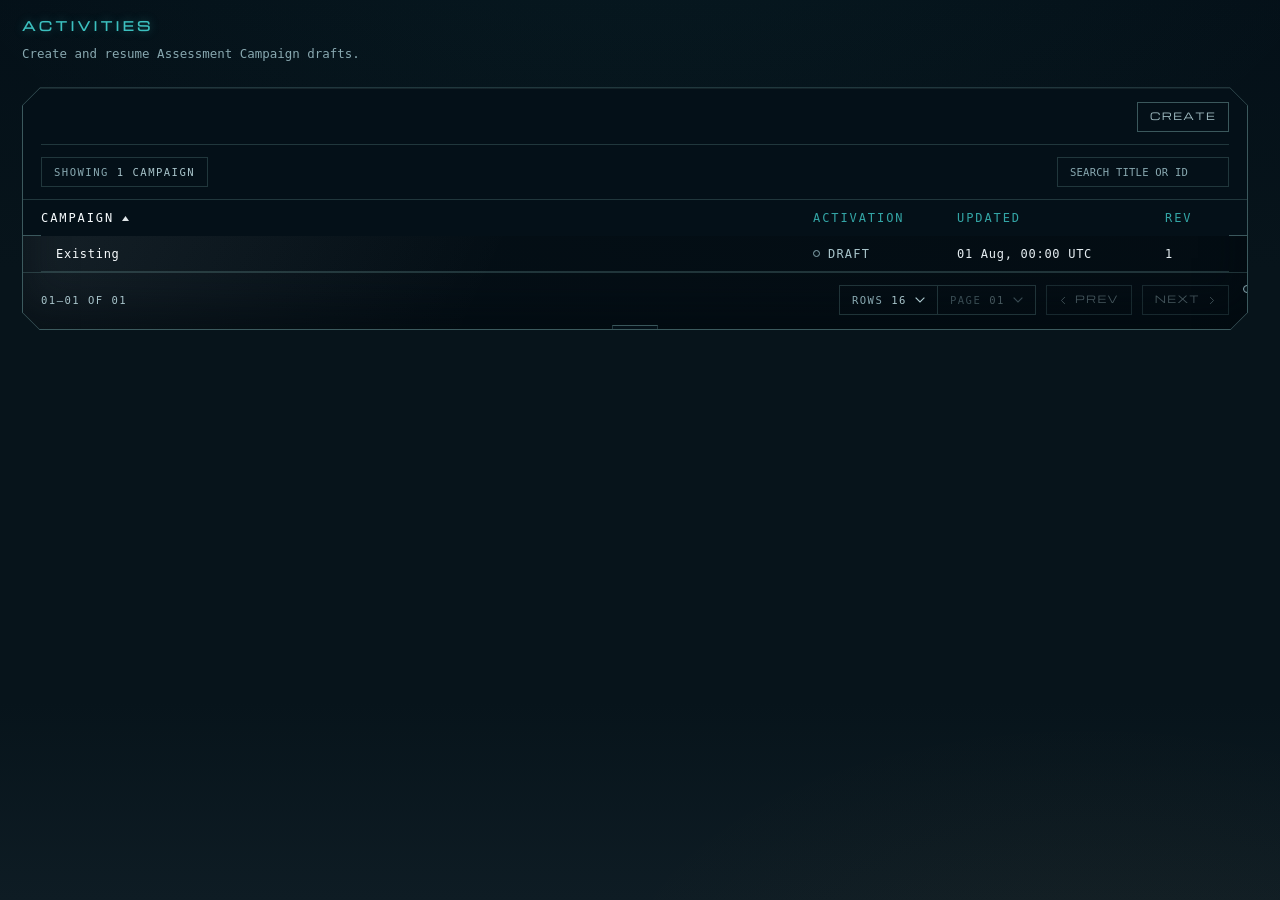
AssessmentActivitiesPage › seats a Clear search key in the empty plate when no campaigns match the query
The image size is (1280, 900).
Check: the link "Existing" is shown, box [56,247,120,261]
Type "zzz-no-match" into the search field named "Search campaign title or ID".
click(1143, 172); type("zzz-no-match")  # box [1058,158,1228,186]
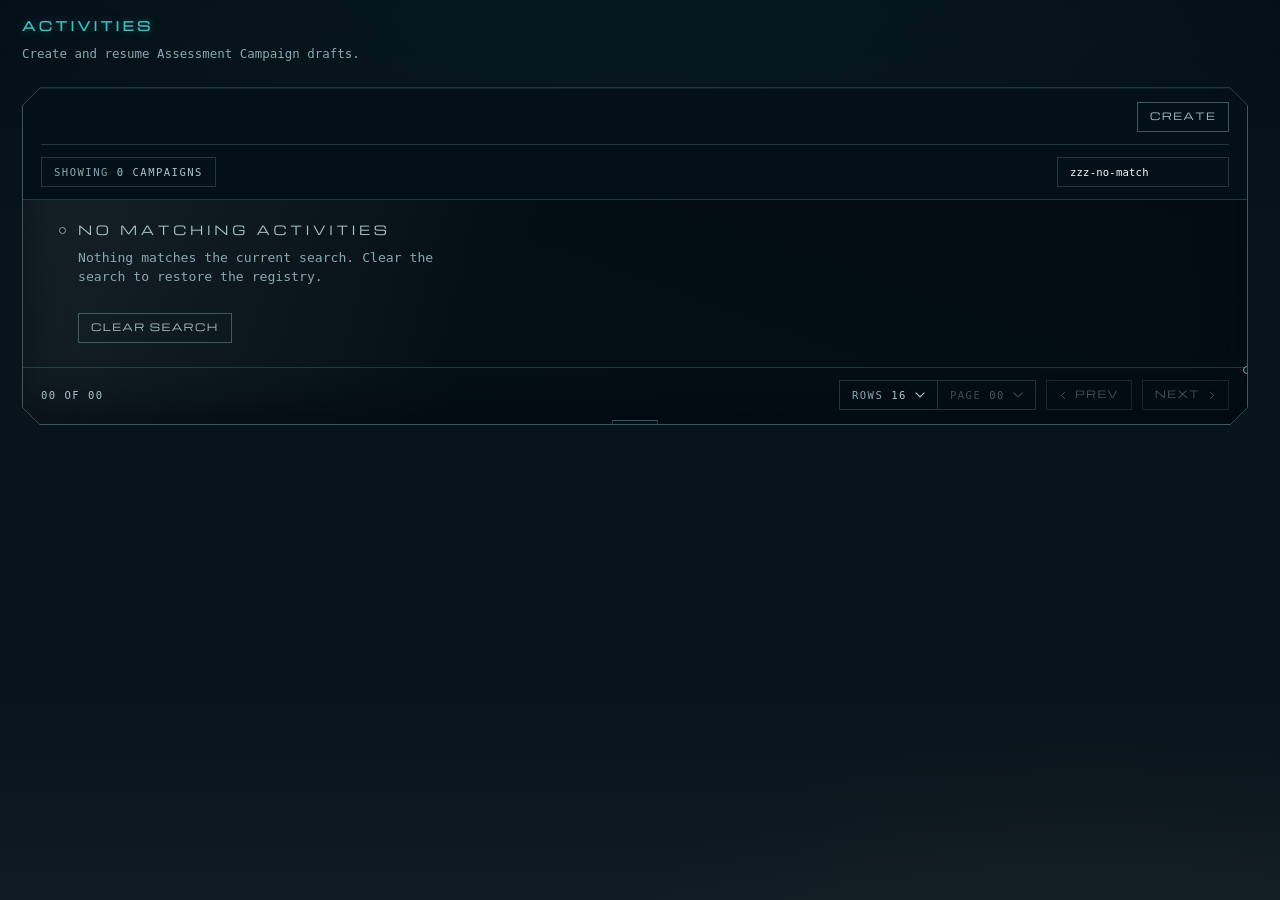
Check: the text "No matching activities" is shown, box [78,220,390,240]
Check: the text "Nothing matches the current search. Clear the search to restore the registry." is shown, box [78,248,457,287]
Check: the element named "Clear search" is shown, box [59,221,433,343]
Click the button "Clear search".
click(155, 328)  # box [78,313,232,343]
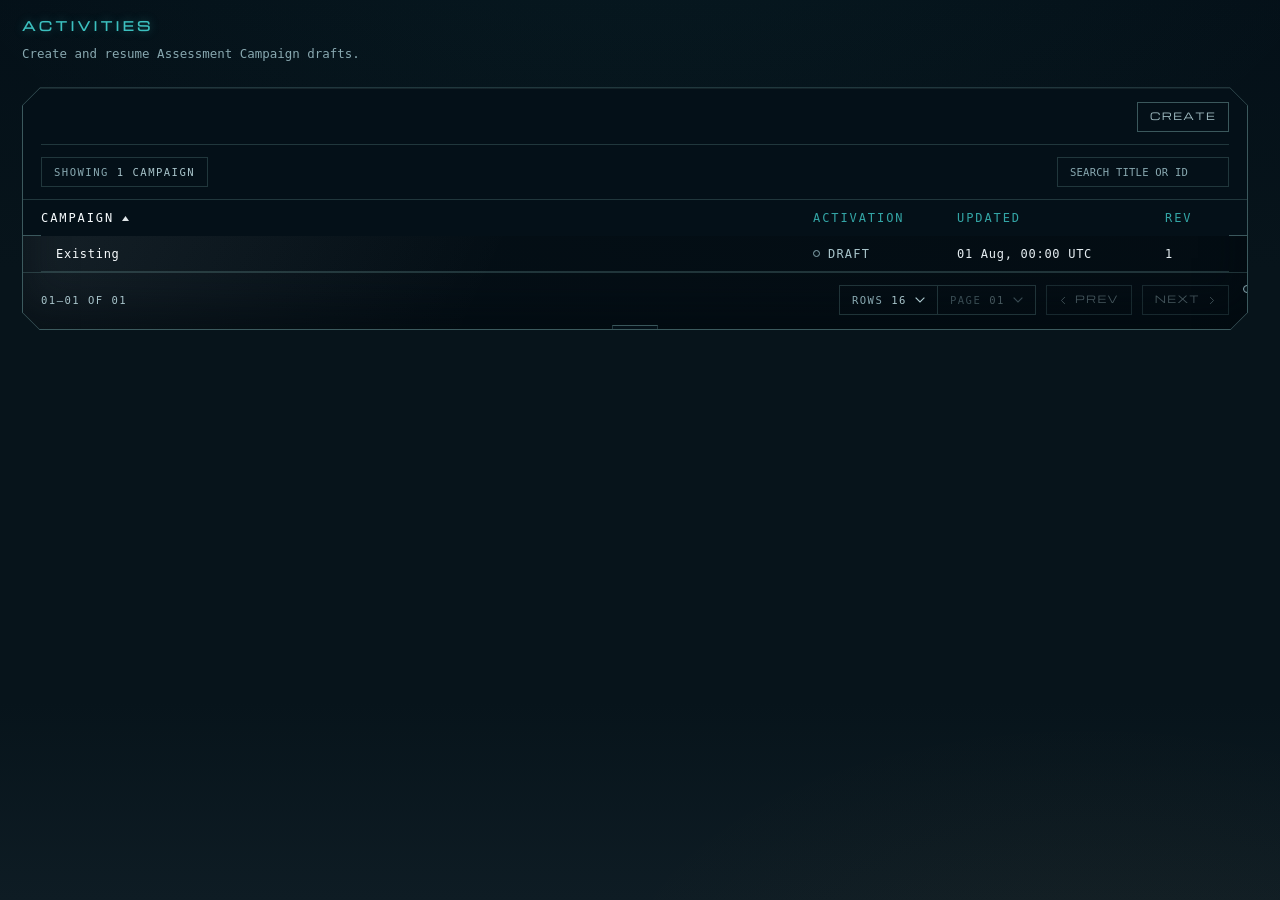
Check: the link "Existing" is shown, box [56,247,120,261]
Check: the button "Clear search" is gone
